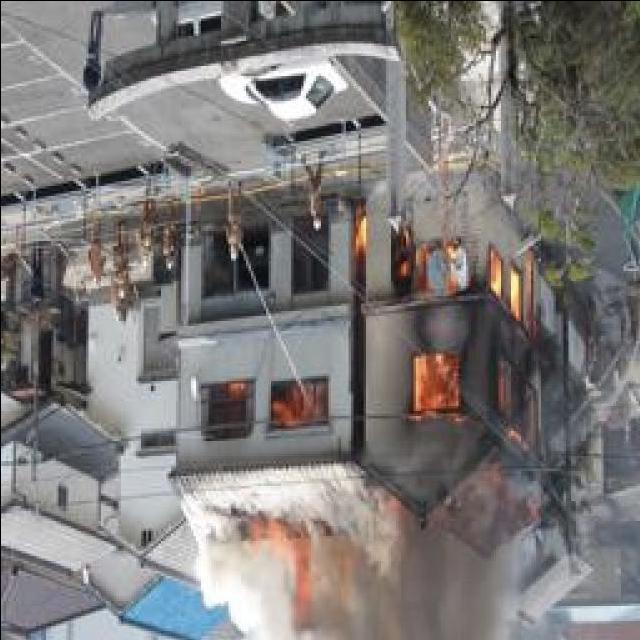Fire: (346, 198, 541, 438), (236, 516, 336, 622), (212, 378, 328, 424)
